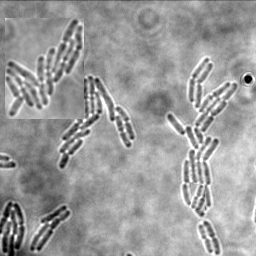Dividing: (204, 219, 222, 255), (199, 223, 215, 253), (191, 184, 205, 210)
Microcolony: (167, 57, 238, 216), (5, 18, 84, 119), (59, 75, 136, 169), (30, 204, 72, 251), (1, 200, 26, 255)
